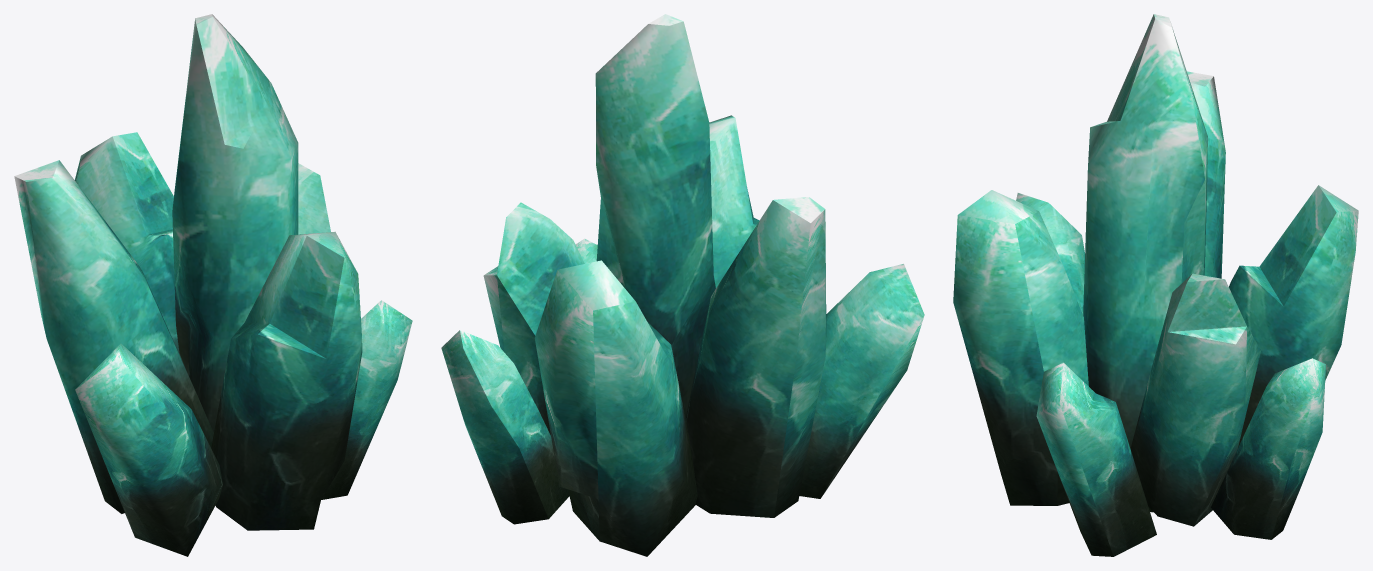
Rendered from environment_stone_shuijing_002.FBX.
The picture shows the model from 3 angles, left to right: view 1: azimuth 30°, elevation 25°; view 2: azimuth 150°, elevation 25°; view 3: azimuth 270°, elevation 25°; orthographic projection. The views are drawn at different scales.
Parts seen in each view (by area): view 1: environment_stone_shuijing_002; view 2: environment_stone_shuijing_002; view 3: environment_stone_shuijing_002.
Boxes of the visible parts, x1=… form: environment_stone_shuijing_002: x1=14, y1=14, x2=412, y2=556; environment_stone_shuijing_002: x1=441, y1=14, x2=924, y2=556; environment_stone_shuijing_002: x1=953, y1=14, x2=1358, y2=556.
Bounding box in the file's own units: 96.16 × 127 × 96.44.
